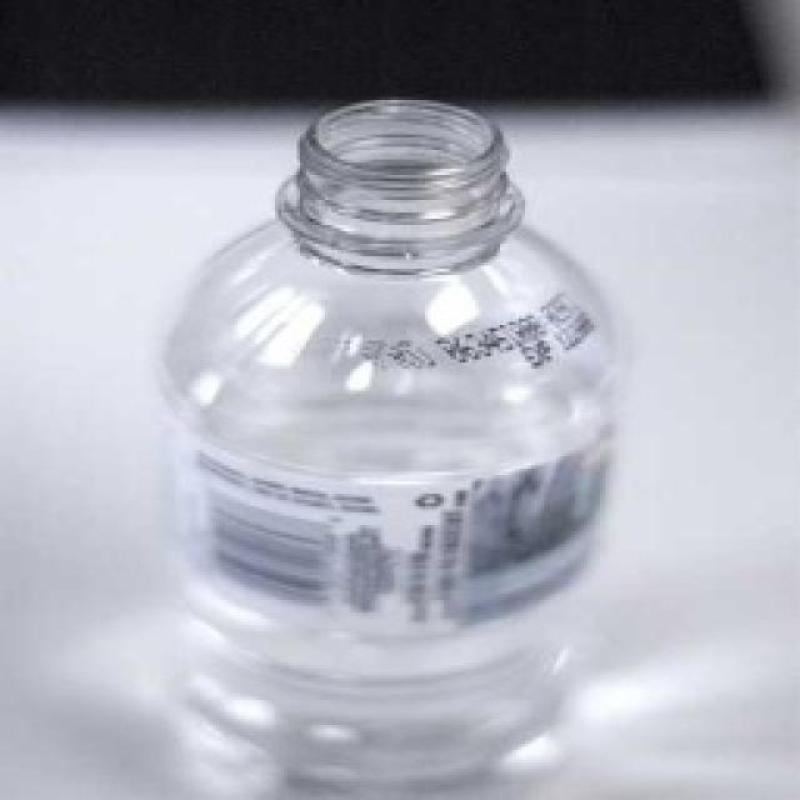botella: (160, 96, 620, 800)
